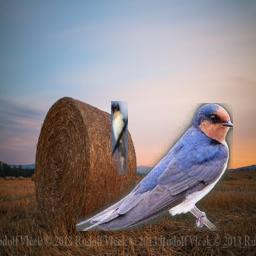Swallow: (76, 103, 233, 231), (111, 101, 128, 175)
